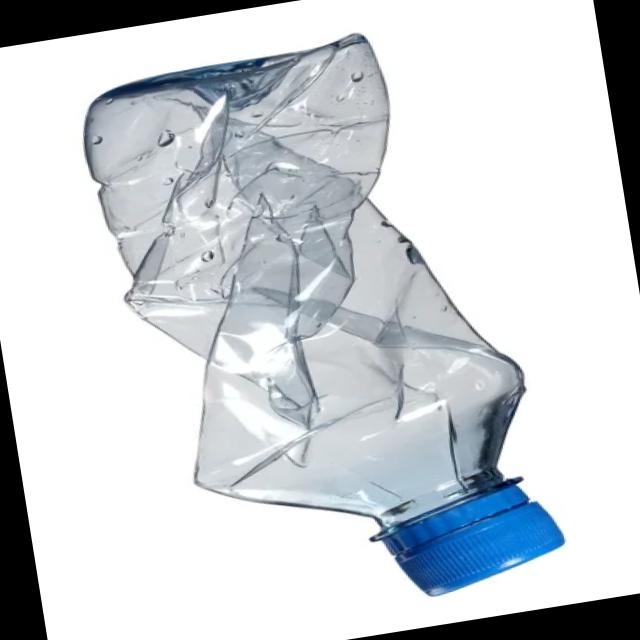plastic_bottle: (51, 24, 602, 613)
